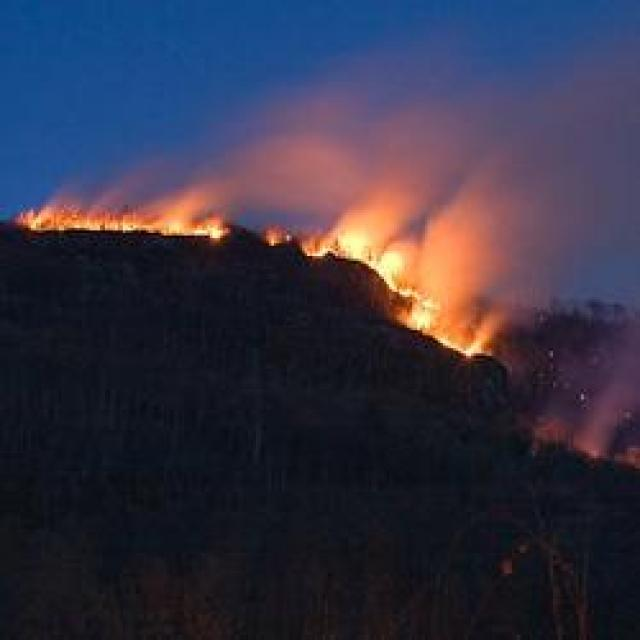Fire: (19, 201, 230, 255), (297, 216, 411, 278), (391, 286, 476, 364)
Smoke: (390, 119, 640, 260), (144, 117, 386, 216), (538, 333, 640, 486)
